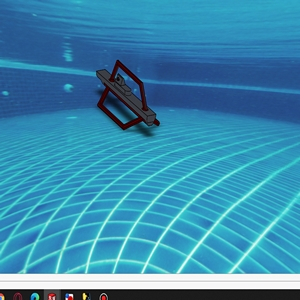submarine: (95, 60, 160, 134)
